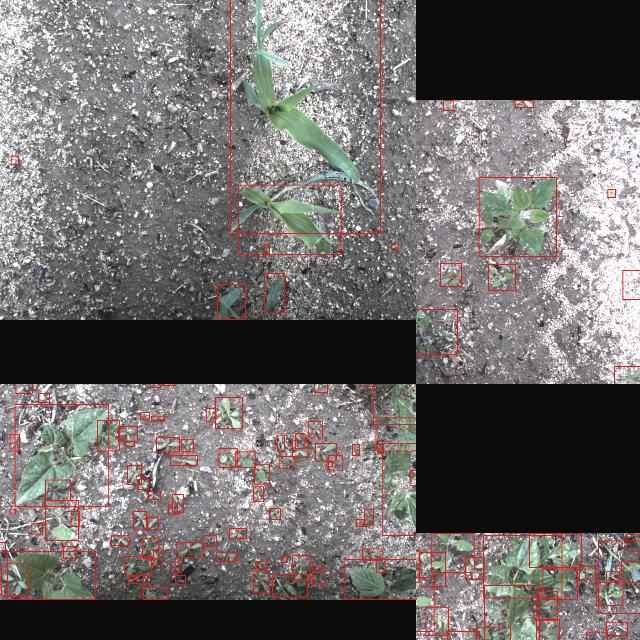crop: (230, 0, 380, 233), (15, 404, 109, 506), (238, 184, 340, 254), (484, 534, 562, 598), (7, 551, 95, 599), (484, 584, 539, 640), (383, 443, 416, 535), (344, 559, 416, 599), (373, 384, 416, 424), (375, 417, 416, 450), (217, 284, 245, 320), (264, 273, 284, 313)
weed: (479, 176, 556, 256), (598, 539, 640, 612), (416, 308, 457, 353), (529, 533, 581, 567), (432, 532, 474, 572), (46, 500, 78, 540), (542, 568, 578, 598), (416, 576, 434, 631), (418, 552, 446, 586), (215, 397, 243, 428), (1, 563, 28, 595), (272, 574, 308, 598), (488, 264, 516, 290), (96, 420, 120, 450), (536, 590, 558, 620), (426, 606, 448, 636), (597, 581, 623, 605), (125, 556, 152, 576), (622, 269, 640, 298), (536, 618, 559, 640), (441, 262, 462, 286), (46, 480, 70, 500), (476, 626, 510, 640), (614, 366, 640, 384), (292, 554, 310, 580), (175, 542, 202, 558), (621, 560, 640, 581), (252, 571, 270, 593), (466, 556, 484, 578), (156, 436, 180, 452), (219, 448, 237, 468), (316, 442, 336, 460), (254, 463, 270, 483), (143, 538, 159, 558), (236, 451, 256, 467), (447, 630, 479, 640), (142, 587, 168, 599), (606, 621, 628, 635), (292, 439, 308, 457), (128, 464, 142, 484), (170, 455, 198, 465), (133, 510, 147, 530), (119, 426, 138, 440), (362, 548, 382, 560), (308, 420, 322, 436), (329, 454, 343, 470), (626, 533, 640, 549), (172, 494, 184, 512), (216, 552, 237, 562), (110, 535, 130, 545), (279, 456, 295, 468), (579, 566, 595, 578), (586, 631, 607, 640), (180, 438, 193, 452), (230, 528, 247, 538), (10, 434, 20, 451), (62, 546, 76, 558), (253, 486, 263, 502), (364, 508, 374, 524), (312, 572, 324, 584), (295, 434, 305, 448), (206, 407, 216, 421), (376, 558, 386, 572), (606, 570, 620, 580), (15, 384, 32, 392), (277, 434, 285, 450), (71, 510, 79, 526), (154, 549, 162, 565), (204, 536, 216, 546), (32, 523, 42, 535), (148, 517, 158, 529), (138, 478, 148, 489), (39, 392, 50, 402), (515, 100, 533, 106), (314, 384, 327, 392), (443, 99, 453, 109), (176, 575, 186, 585), (270, 508, 280, 518), (168, 504, 178, 514), (148, 491, 160, 499), (410, 470, 416, 485), (172, 562, 180, 572), (257, 560, 267, 568), (128, 576, 138, 584), (352, 444, 360, 454), (608, 189, 616, 197), (356, 518, 364, 526), (0, 542, 6, 552), (377, 442, 383, 452), (140, 412, 150, 418), (142, 574, 148, 584), (151, 416, 165, 420), (264, 244, 270, 253), (12, 156, 18, 164), (126, 440, 134, 446), (315, 564, 321, 570), (10, 508, 16, 514), (392, 244, 398, 248), (282, 556, 286, 562), (326, 462, 332, 466)
